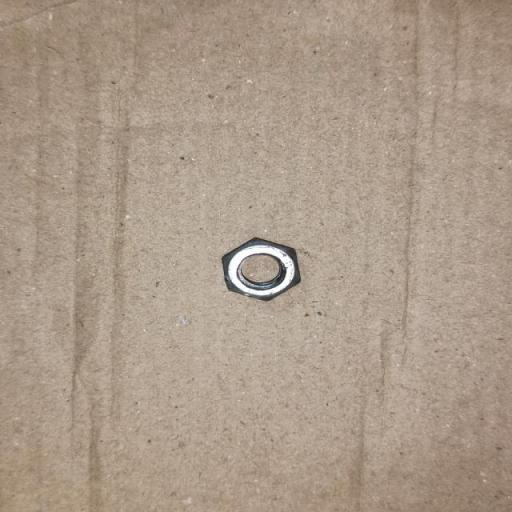Nut: (221, 236, 301, 302)
